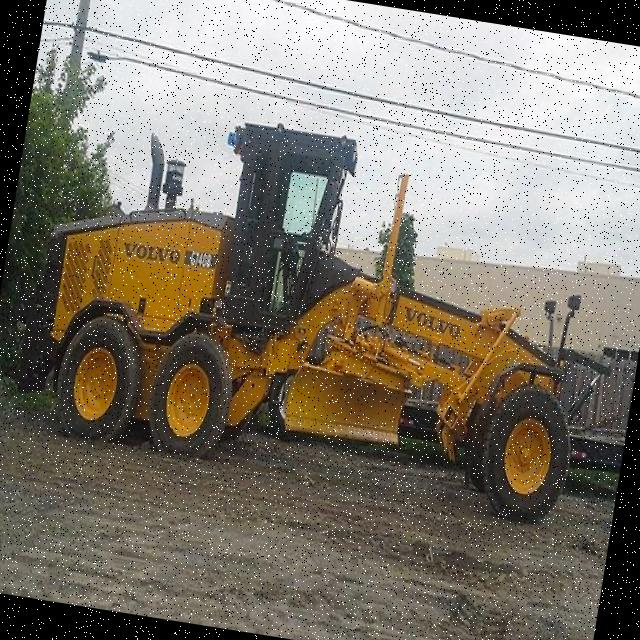Grader: (13, 72, 632, 526)
